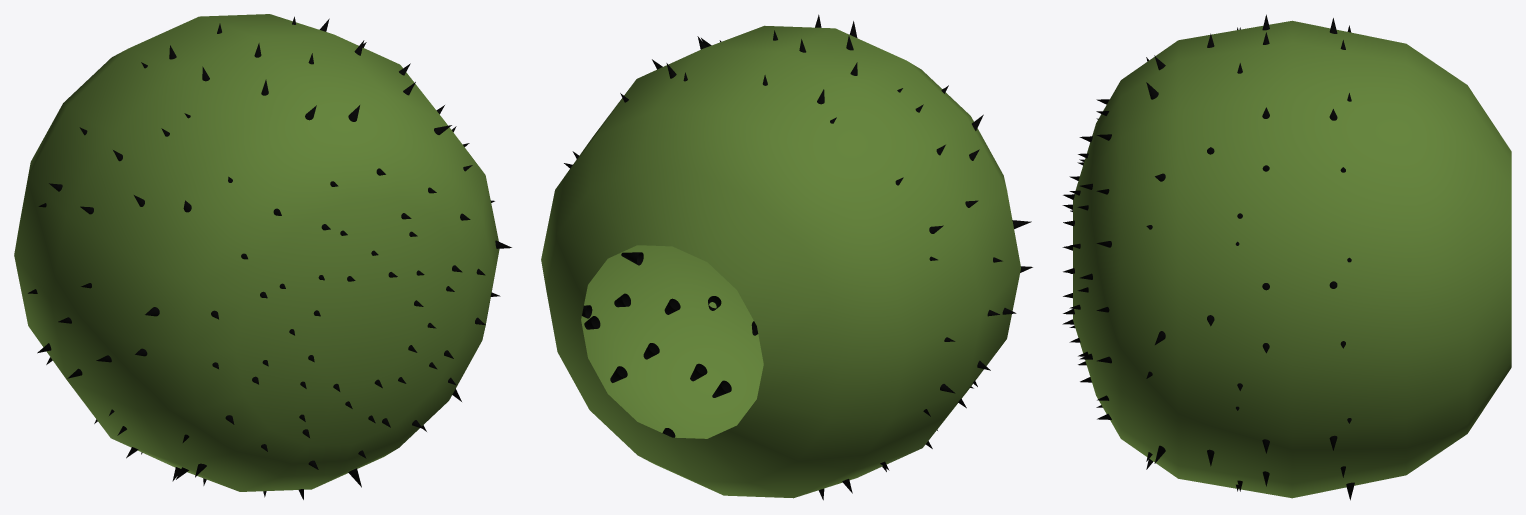
Rendered from CactoPequeno.fbx.
3 renders of one model, left to right at view 1: azimuth 30°, elevation 25°; view 2: azimuth 150°, elevation 25°; view 3: azimuth 270°, elevation 25°, orthographic. The views are drawn at different scales.
Parts seen in each view (by area): view 1: CactoPequeno; view 2: CactoPequeno; view 3: CactoPequeno.
Boxes of the visible parts, x1,y1,x2,y2 form: CactoPequeno: [14, 14, 511, 499]; CactoPequeno: [541, 14, 1032, 500]; CactoPequeno: [1062, 14, 1511, 500].
Size of the model in its own units: 130 by 131 by 119.
